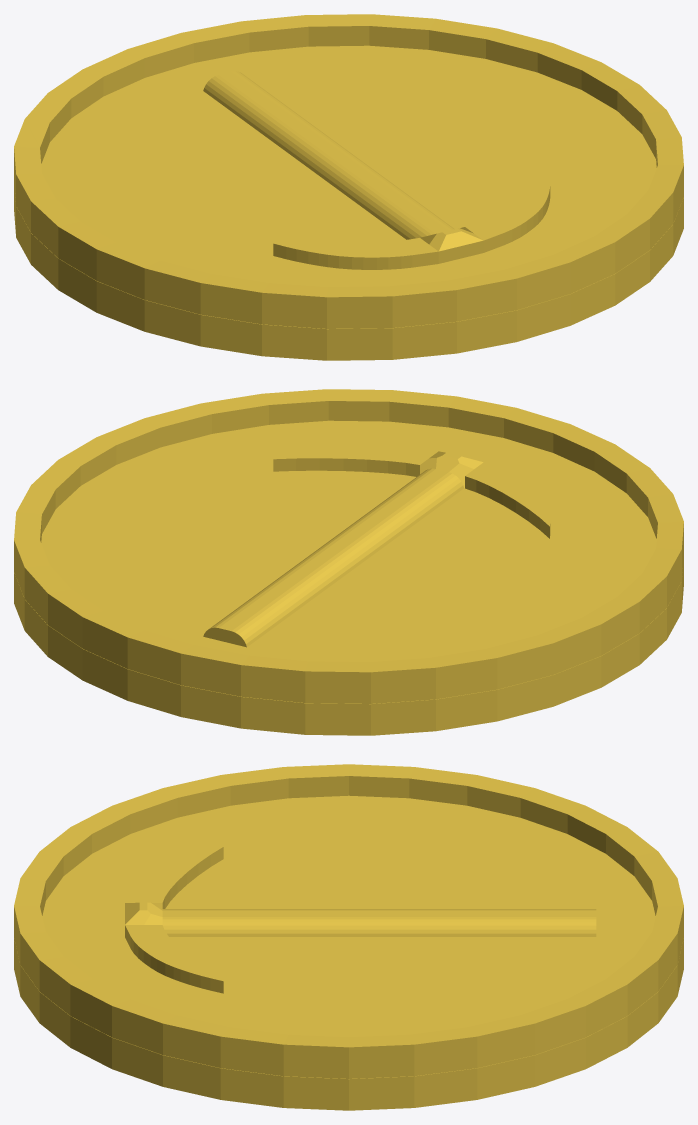
The model's file is coin.fbx.
3 renders of one model, top to bottom at view 1: azimuth 30°, elevation 25°; view 2: azimuth 150°, elevation 25°; view 3: azimuth 270°, elevation 25°, orthographic.
Parts seen in each view (by area): view 1: Cylinder; view 2: Cylinder; view 3: Cylinder.
Boxes of the visible parts, x1=… form: Cylinder: x1=14, y1=14, x2=683, y2=360; Cylinder: x1=14, y1=389, x2=683, y2=735; Cylinder: x1=14, y1=764, x2=683, y2=1110.
Size of the model in its own units: 217 by 22.63 by 217.
